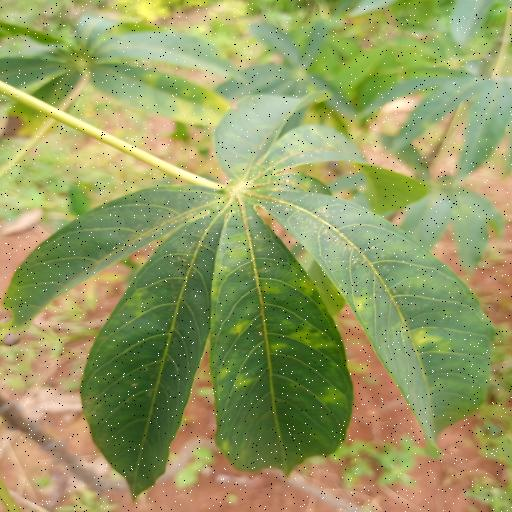Cassava_Mosaic: (6, 91, 496, 499)
